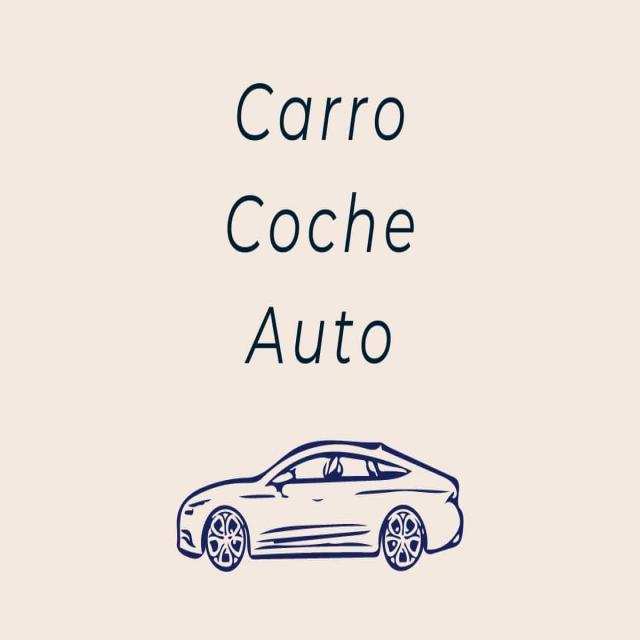car: (165, 412, 475, 586)
